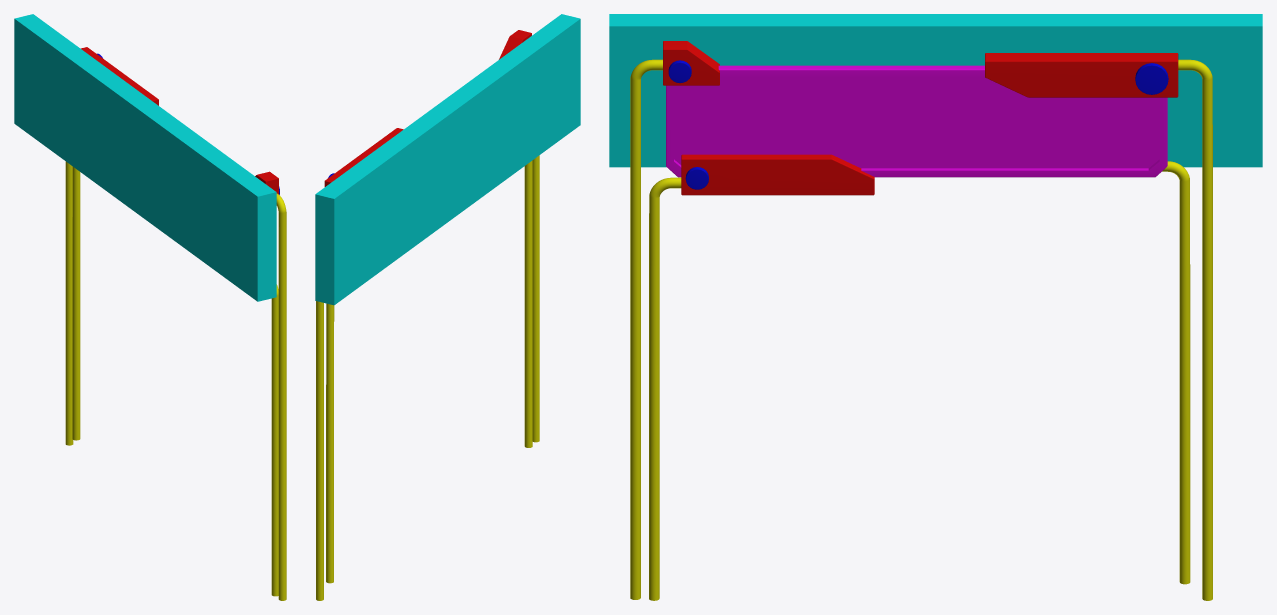
Rendered from Door_Sign.fbx.
The picture shows the model from 3 angles, left to right: view 1: azimuth 30°, elevation 25°; view 2: azimuth 150°, elevation 25°; view 3: azimuth 270°, elevation 25°; orthographic projection. The views are drawn at different scales.
Visible parts, largest first — view 1: Door_Sign; view 2: Door_Sign; view 3: Door_Sign.
Boxes of the visible parts, x1,y1,x2,y2 form: Door_Sign: (14, 14, 286, 600); Door_Sign: (315, 14, 580, 600); Door_Sign: (609, 14, 1262, 600).
Bounding box in the file's own units: 33.68 × 302 × 318.
